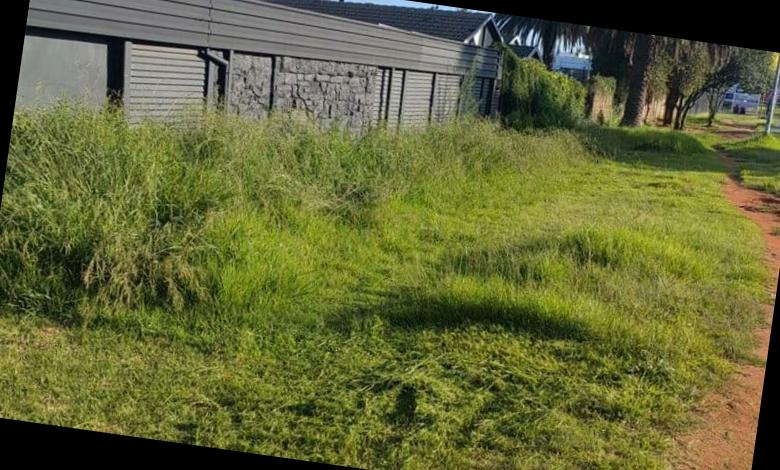overgrown grass: (0, 103, 585, 319), (512, 224, 710, 330), (388, 280, 588, 346), (575, 125, 709, 150)
